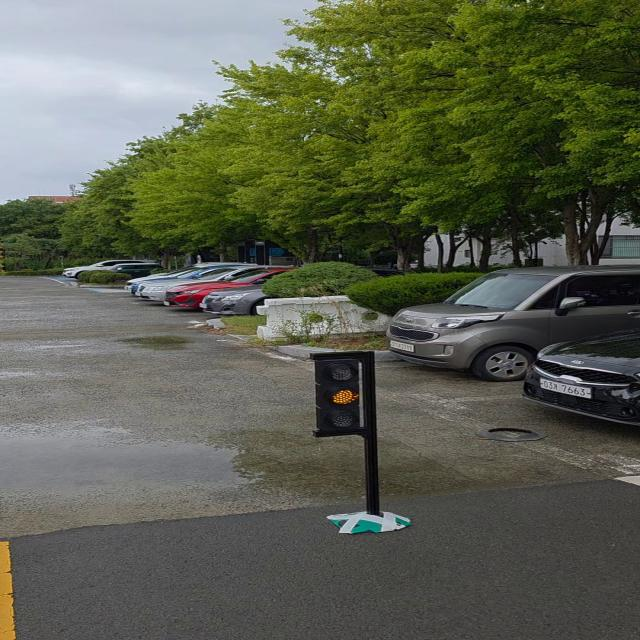yellow: (314, 356, 366, 436)
